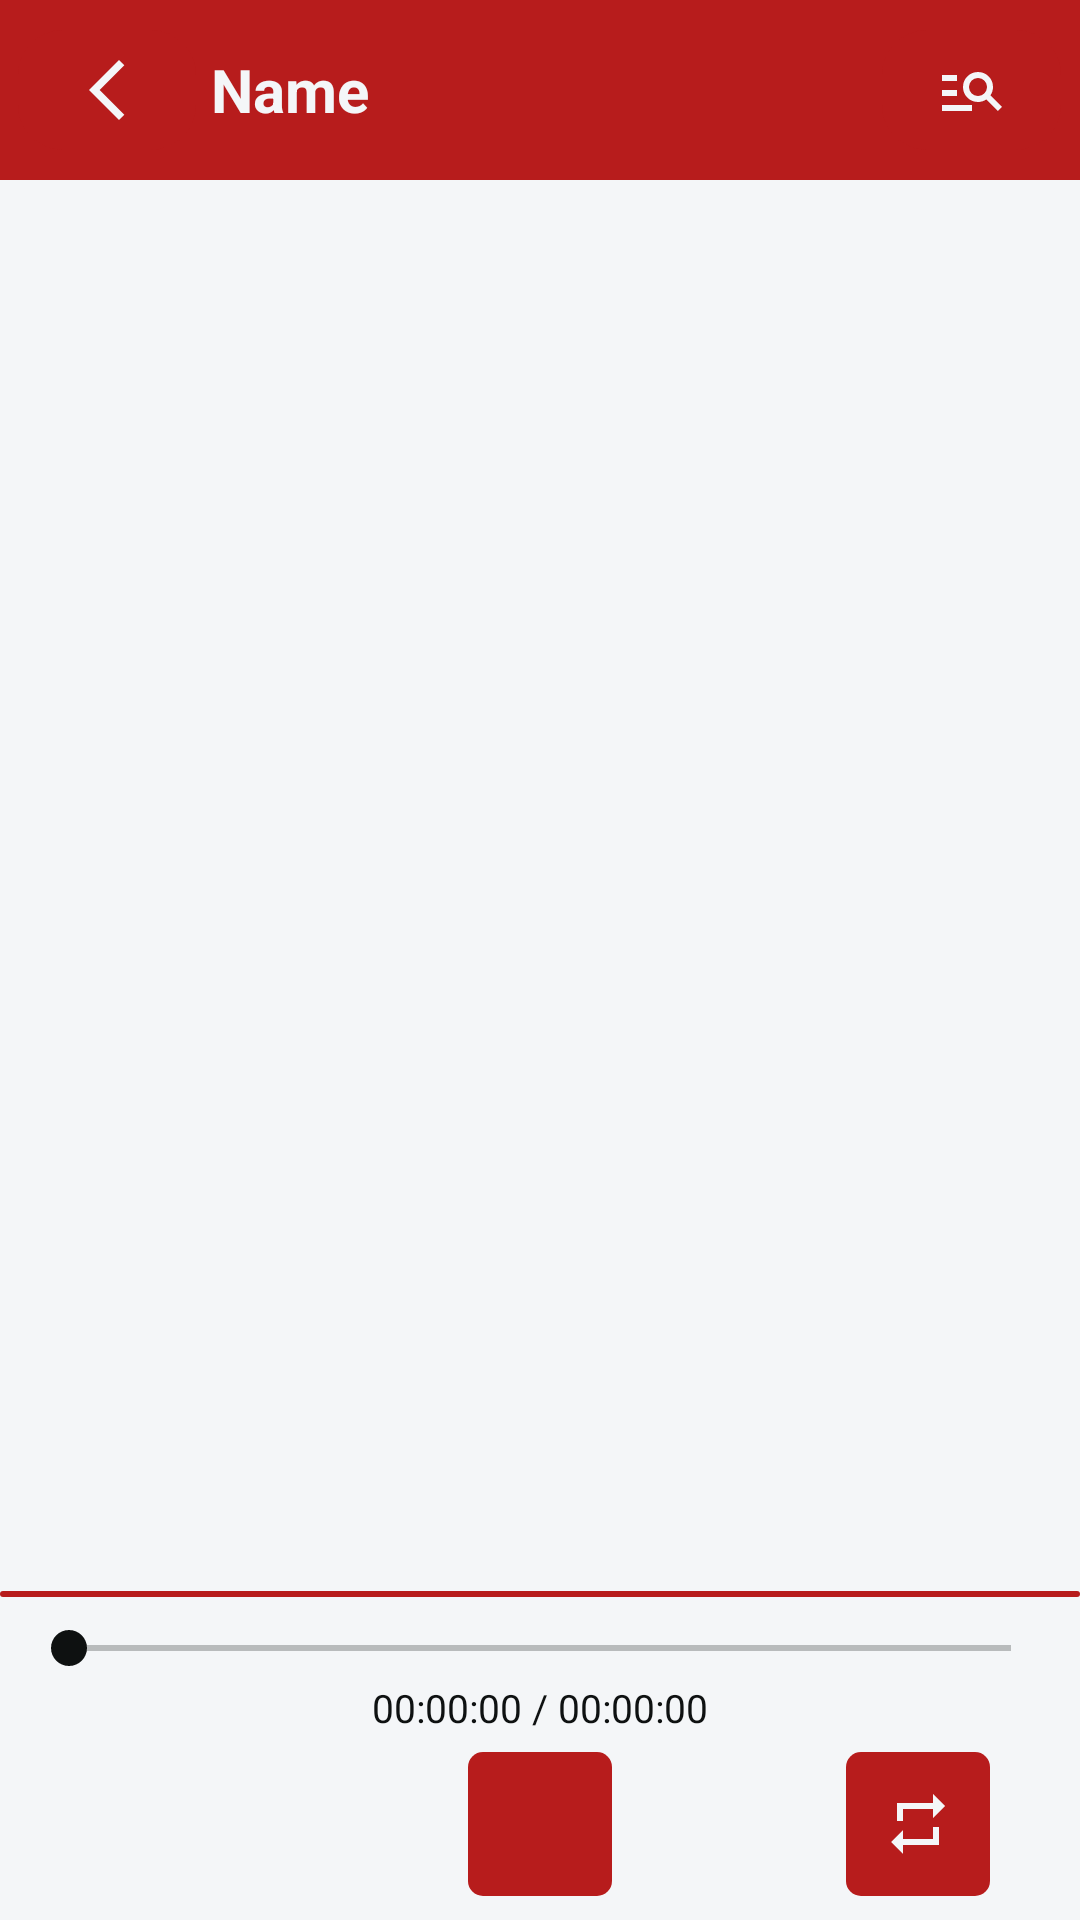

Icons on this 1080*1920 Android screen, each with its box as box(x1, y1, x2, y2):
back: box(89, 60, 124, 120)
replay: box(846, 1752, 990, 1896)
search: box(942, 72, 1002, 111)
